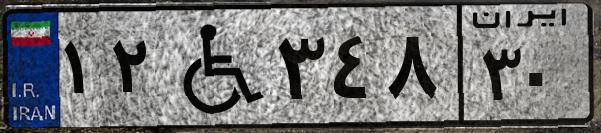0: (525, 38, 570, 115)
1: (57, 26, 110, 100)
2: (110, 28, 158, 98)
3: (270, 28, 330, 110), (475, 38, 525, 113)
4: (330, 28, 385, 110)
8: (385, 28, 445, 110)
ژ (معلولین و جانبازان): (158, 12, 270, 120)
